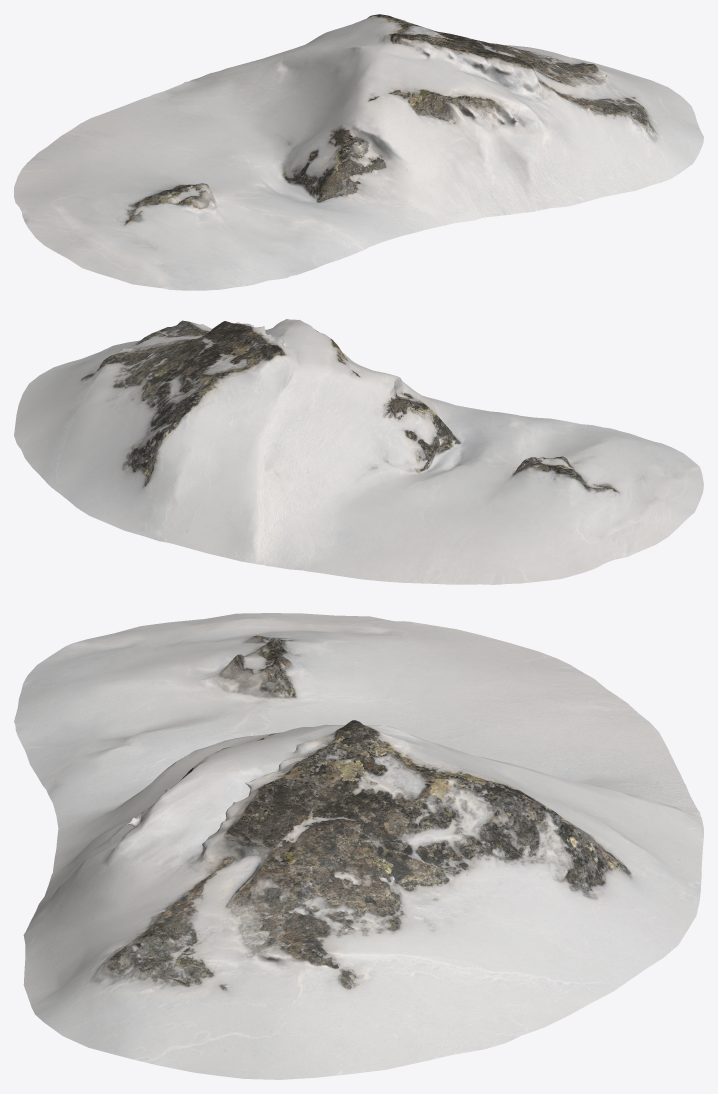
File: Snow3.fbx
3 renders of one model, top to bottom at view 1: azimuth 30°, elevation 25°; view 2: azimuth 150°, elevation 25°; view 3: azimuth 270°, elevation 25°, orthographic. The views are drawn at different scales.
Parts seen in each view (by area): view 1: Aset_nature_embankment_L_vcwjeh2fa_LOD0; view 2: Aset_nature_embankment_L_vcwjeh2fa_LOD0; view 3: Aset_nature_embankment_L_vcwjeh2fa_LOD0.
Part boxes in pixels (left/top/right/bottom): Aset_nature_embankment_L_vcwjeh2fa_LOD0: left=14, top=14, right=703, bottom=290; Aset_nature_embankment_L_vcwjeh2fa_LOD0: left=14, top=319, right=703, bottom=584; Aset_nature_embankment_L_vcwjeh2fa_LOD0: left=14, top=613, right=703, bottom=1079.
Bounding box in the file's own units: 167 × 27.78 × 104.
Materials: 1 (1 with a texture image).
